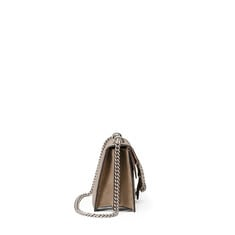Gucci: (78, 119, 160, 223), (131, 141, 152, 198)
